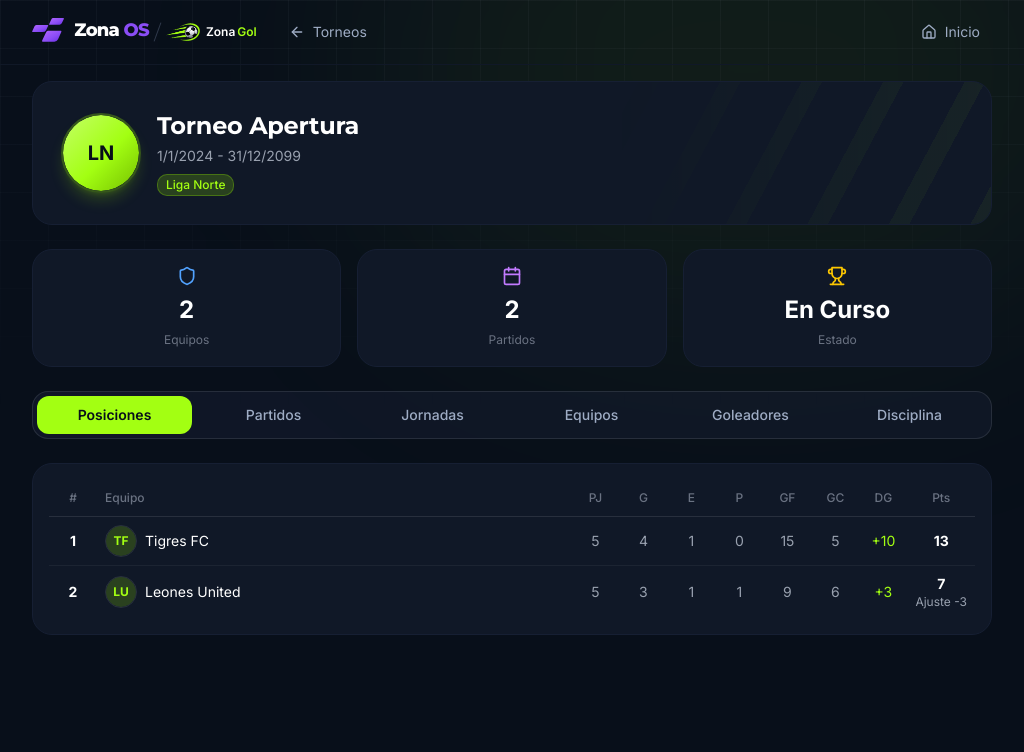
Test case: TournamentDetailPage › switches tabs with the keyboard/mouse and shows matches with team names and scores
Expected: the table named "Tabla de posiciones" is shown, [49,480,975,618]
What coordinates should you click on to do the following:
click the tab "Partidos"
I would click on:
 (274, 415)
Its box is [196,396,351,434].
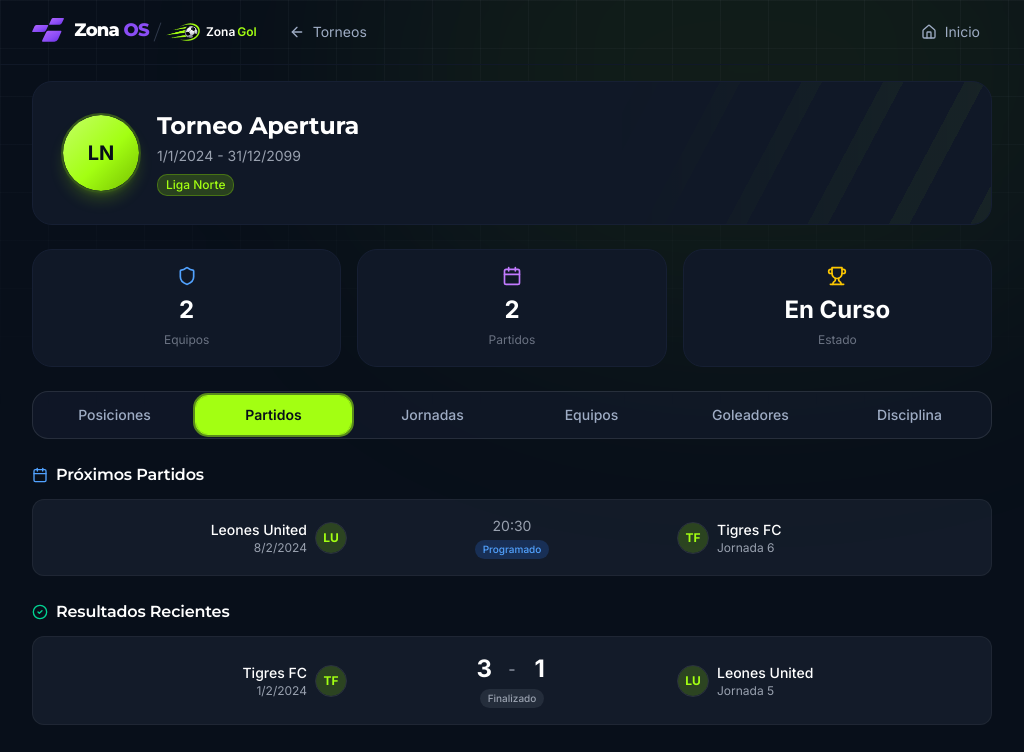
Now the text "Jornada 5" is shown, box [717,682,774,698]
Now the text "20:30" is shown, box [492,516,531,536]
Now the element "Próximos Partidos" is shown, box [32,463,992,576]
What coordinates should you click on to do the following:
click the tab "Goleadores"
I would click on:
 (750, 415)
Its box is [673,396,828,434].
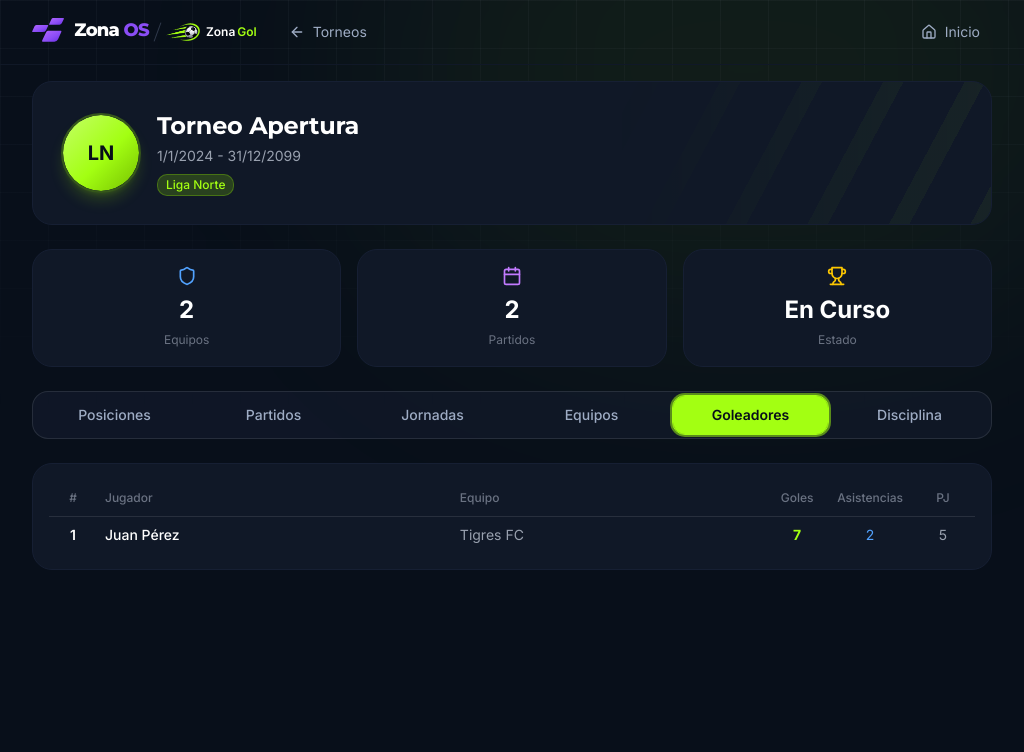
Now the cells read "1", "Juan Pérez", "Tigres FC", "7", "2", "5", in this order, box [49,516,97,552]; [97,516,452,552]; [452,516,765,552]; [765,516,829,552]; [829,516,911,552]; [911,516,975,552]
What coordinates should you click on to do the following:
click the tab "Disciplina"
I would click on:
 (910, 415)
Its box is [832,396,987,434].
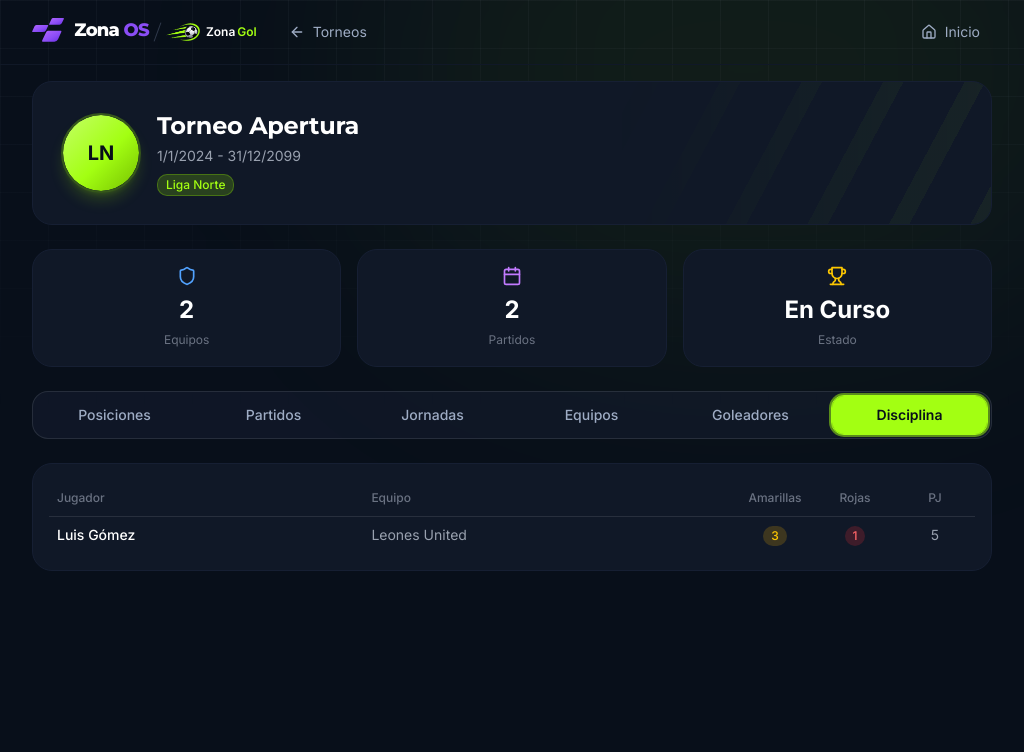
Now the cells read "Luis Gómez", "Leones United", "3", "1", "5", in this order, box [49,516,363,554]; [363,516,735,554]; [735,516,815,554]; [815,516,895,554]; [895,516,975,554]
What coordinates should you click on to do the following:
click the tab "Posiciones"
I would click on:
 (114, 415)
Its box is [37,396,192,434].
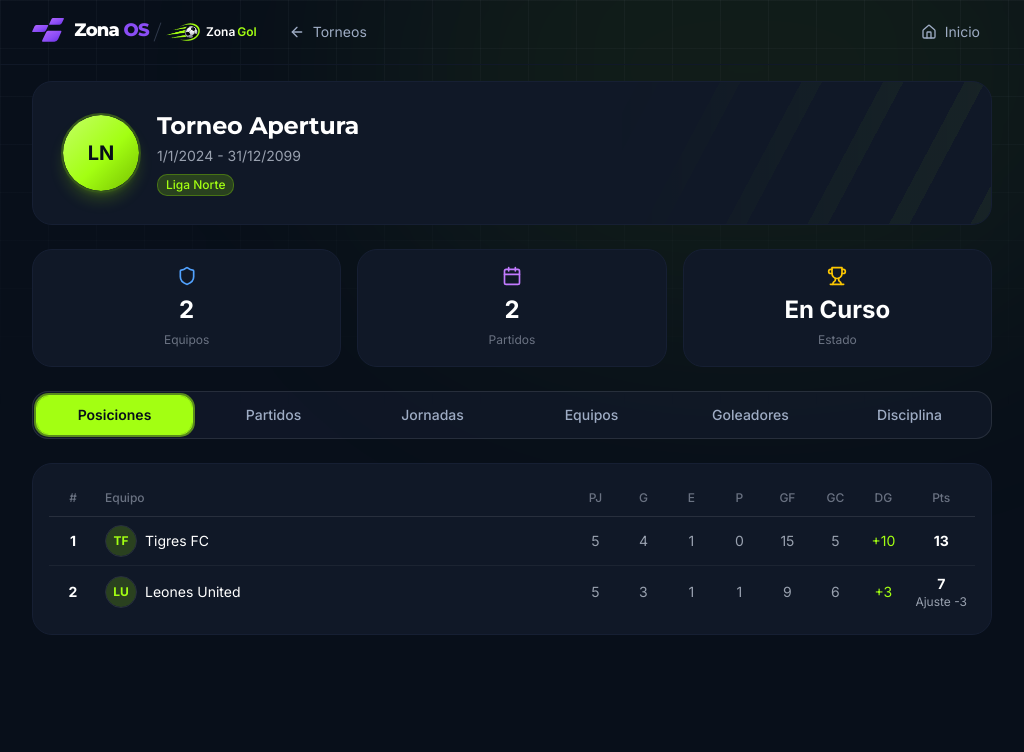
Now the table named "Tabla de posiciones" is shown, box [49,480,975,618]
